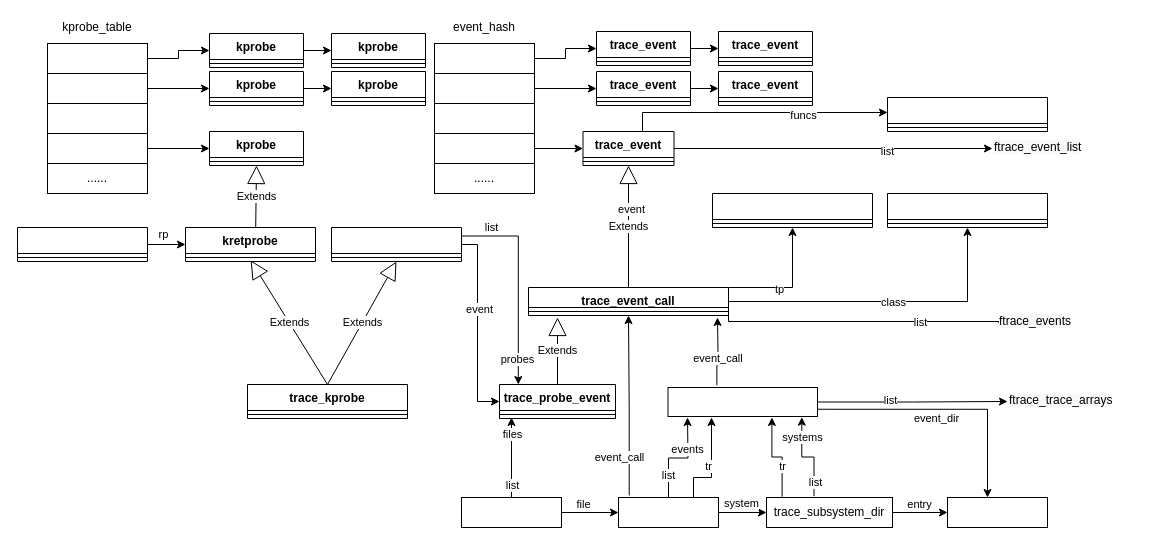
This 1155x545 diagram has some shape labels left out. The shapes that lost their labels are listed below. From the top down, each one's centre as x and y in pixels, then its label:
point (967, 114): trace_event_functions
point (792, 210): tracepoint
point (967, 210): trace_event_class
point (82, 244): kretprobe_instance
point (396, 244): trace_probe
point (742, 401): trace_array
point (511, 512): event_file_link
point (668, 512): trace_event_file
point (997, 512): dentry
